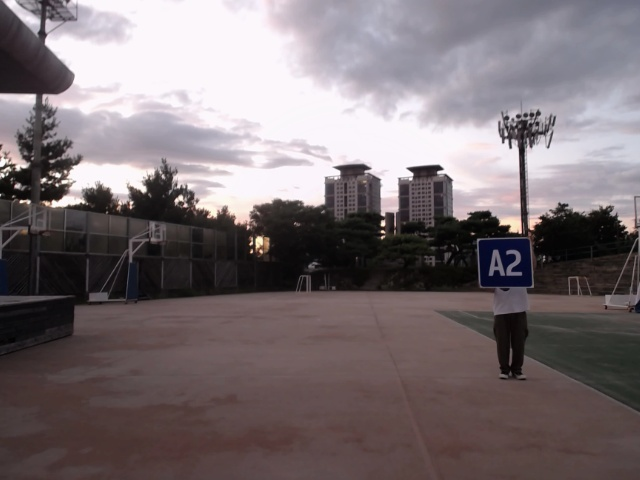delivery_a2: (478, 237, 532, 288)
